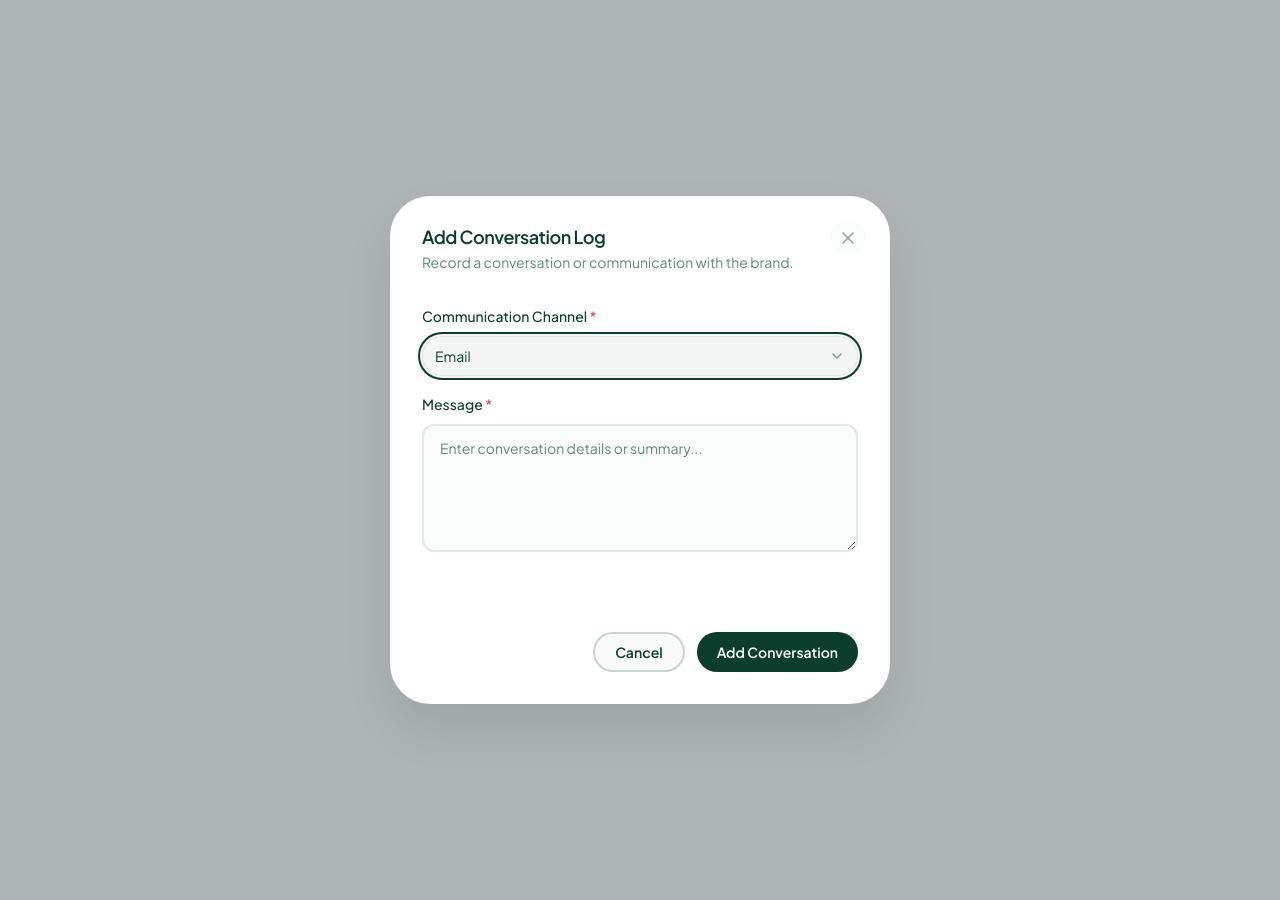
Test: ConversationLogModal › Form Validation › should show error when message is empty
Click the button "Add Conversation".
click(777, 652)  # box [697,632,858,672]
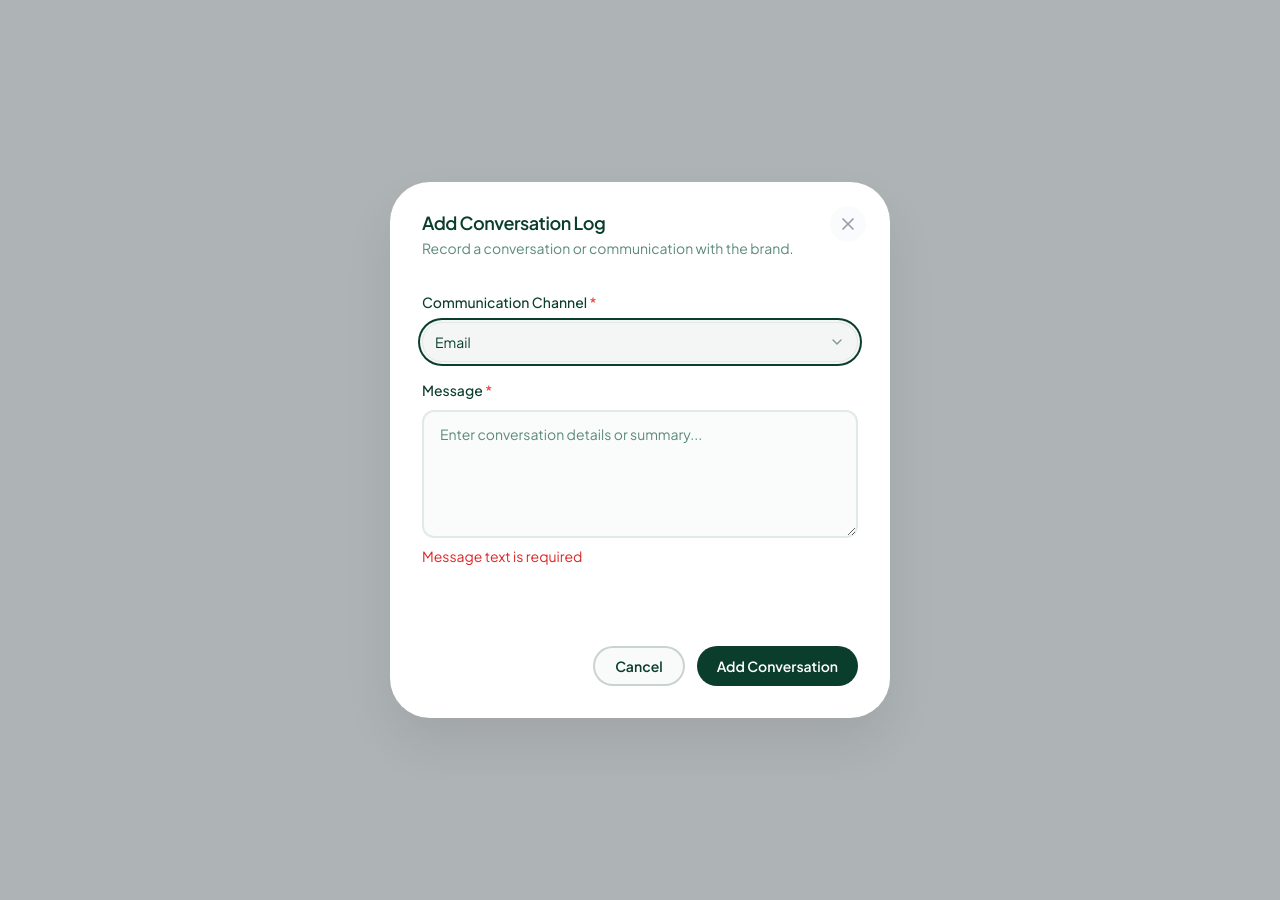
expect the text "Message text is required" is shown: met, box [422,547,582,565]
